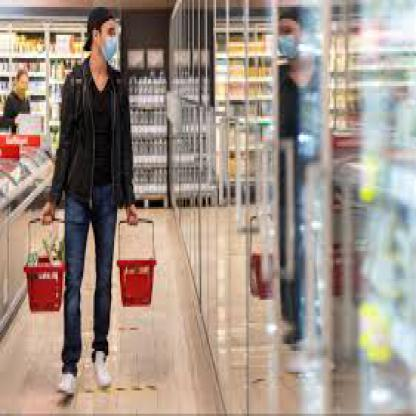Not_Wearing_Mask: (16, 72, 30, 95)
Wearing_Mask: (93, 9, 126, 72)
